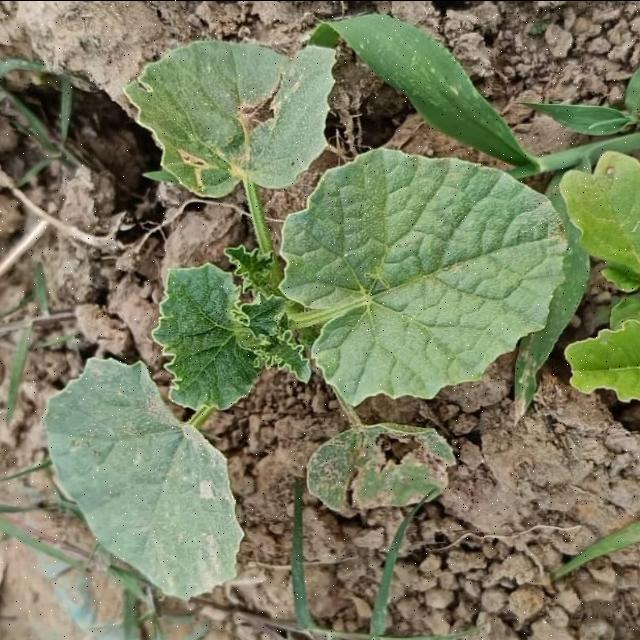plant: (46, 14, 589, 598), (307, 420, 453, 509)
